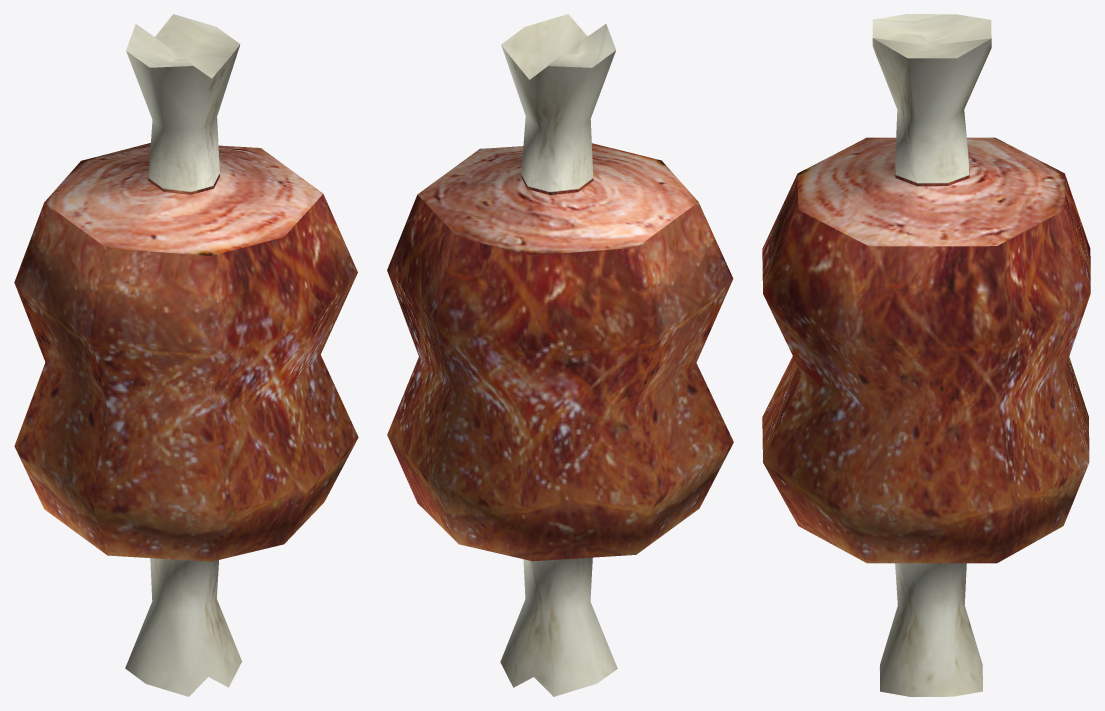
File: meat.fbx
3 views of the same model, side by side, from view 1: azimuth 30°, elevation 25°; view 2: azimuth 150°, elevation 25°; view 3: azimuth 270°, elevation 25° (orthographic). The views are drawn at different scales.
Visible parts, largest first — view 1: meat; view 2: meat; view 3: meat.
Part boxes in pixels (x1=…): meat: x1=14, y1=14, x2=358, y2=696; meat: x1=387, y1=14, x2=733, y2=696; meat: x1=762, y1=14, x2=1090, y2=696.
Bounding box in the file's own units: 18.09 × 40.96 × 18.67.
